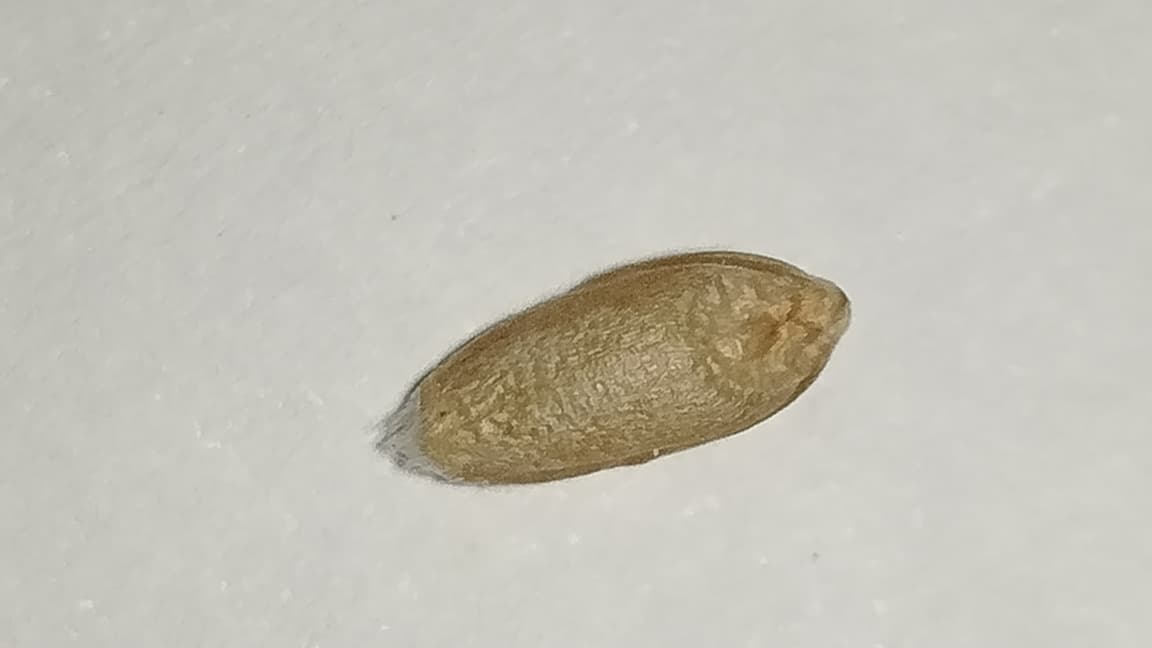healthy: (377, 252, 848, 481)
